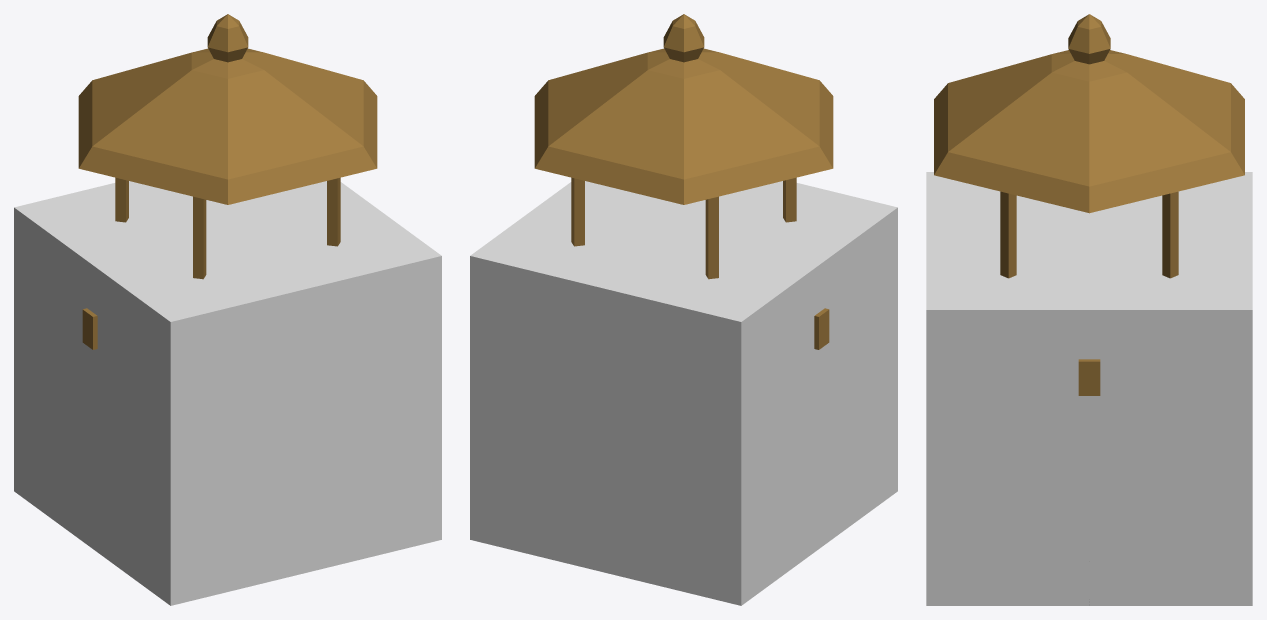
Rendered from JP_Prop_IncenseBurner_A.glb.
The picture shows the model from 3 angles, left to right: view 1: azimuth 30°, elevation 25°; view 2: azimuth 150°, elevation 25°; view 3: azimuth 270°, elevation 25°; orthographic projection. The views are drawn at different scales.
Visible parts, largest first — view 1: COL_JP_Prop_IncenseBurner_A, JP_Prop_IncenseBurner_A; view 2: COL_JP_Prop_IncenseBurner_A, JP_Prop_IncenseBurner_A; view 3: COL_JP_Prop_IncenseBurner_A, JP_Prop_IncenseBurner_A.
Part boxes in pixels (x1=…): COL_JP_Prop_IncenseBurner_A: x1=14, y1=181, x2=441, y2=605; JP_Prop_IncenseBurner_A: x1=78, y1=14, x2=377, y2=349; COL_JP_Prop_IncenseBurner_A: x1=470, y1=181, x2=897, y2=605; JP_Prop_IncenseBurner_A: x1=534, y1=14, x2=833, y2=349; COL_JP_Prop_IncenseBurner_A: x1=926, y1=172, x2=1252, y2=605; JP_Prop_IncenseBurner_A: x1=934, y1=14, x2=1244, y2=395.
Size of the model in its own units: 1.32 by 2.12 by 1.2.
3 materials, 3 textured.
